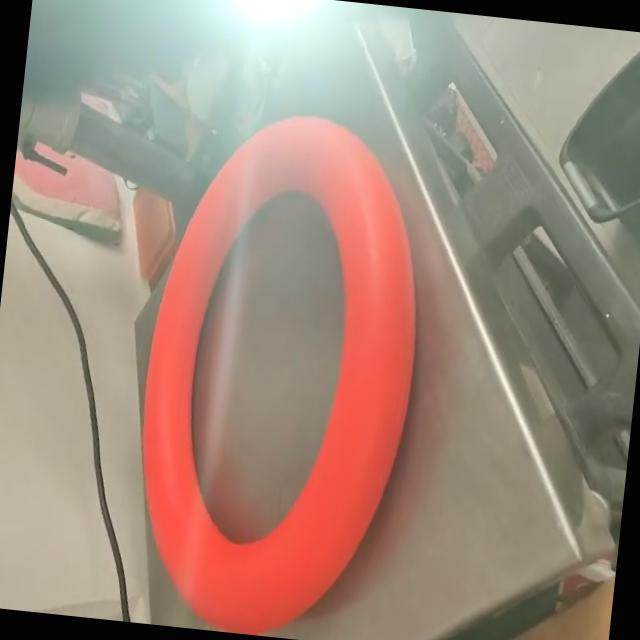note: (112, 95, 442, 640)
